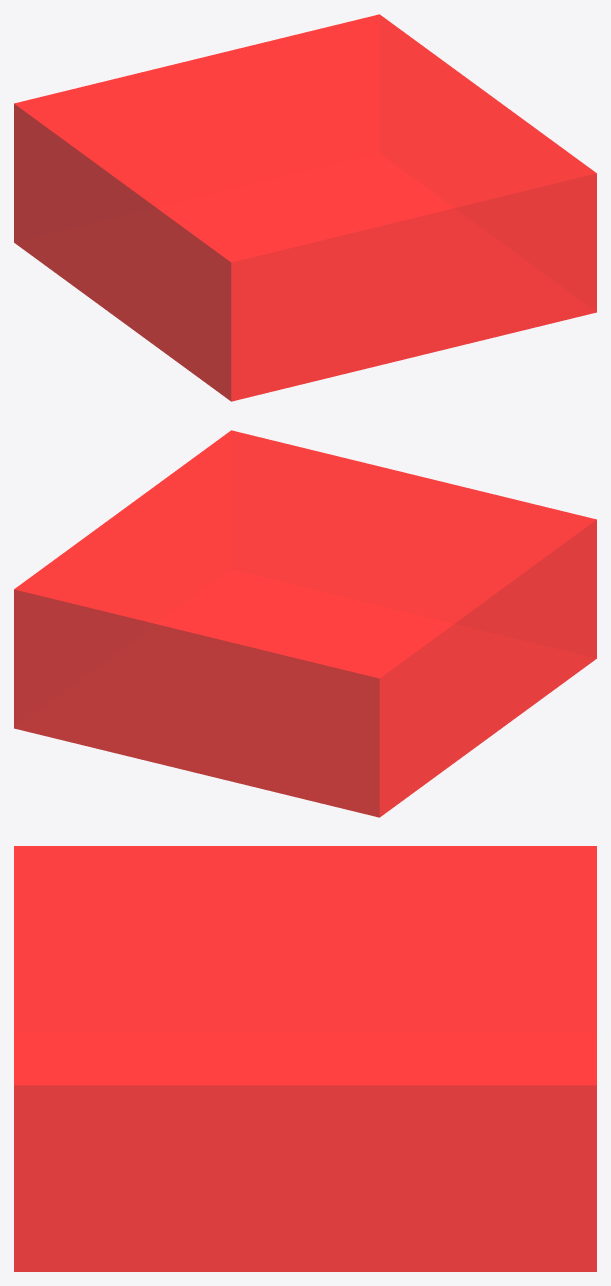
The model's file is roundtrip.out_b.glb.
The picture shows the model from 3 angles, top to bottom: view 1: azimuth 30°, elevation 25°; view 2: azimuth 150°, elevation 25°; view 3: azimuth 270°, elevation 25°; orthographic projection. The views are drawn at different scales.
Parts seen in each view (by area): view 1: Cube; view 2: Cube; view 3: Cube.
Boxes of the visible parts, x1,y1,x2,y2 form: Cube: [14, 14, 596, 401]; Cube: [14, 430, 596, 817]; Cube: [14, 846, 596, 1271].
Bounding box in the file's own units: 1.1 × 0.4 × 1.13.
